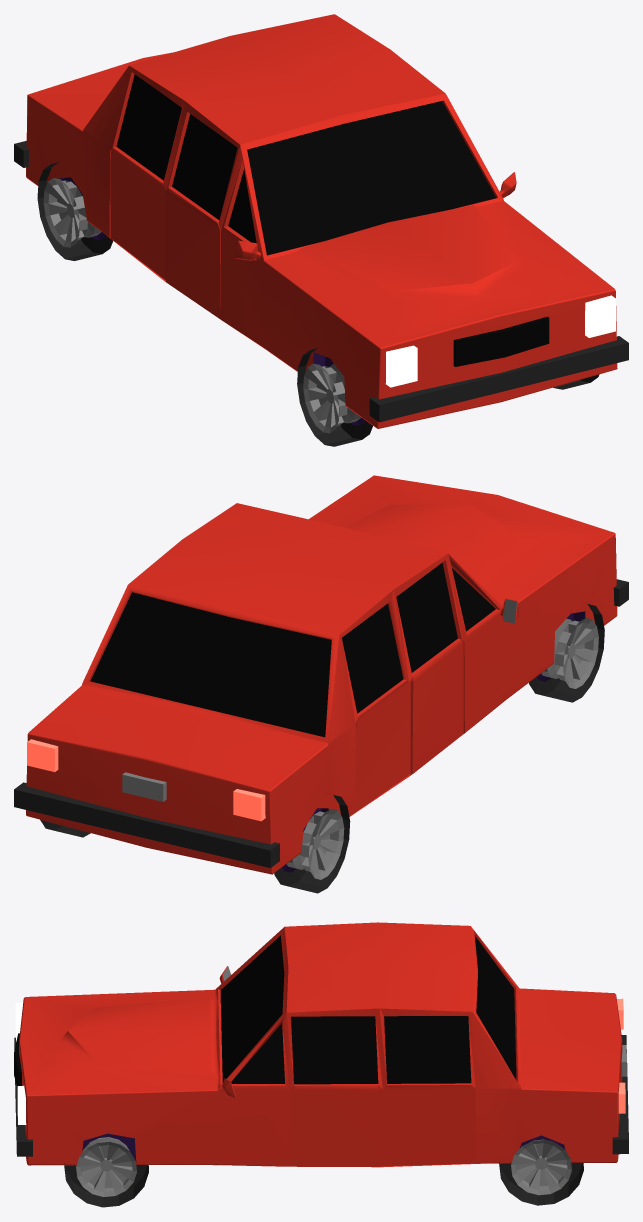
Rendered from redCar.glb.
The picture shows the model from 3 angles, top to bottom: view 1: azimuth 30°, elevation 25°; view 2: azimuth 150°, elevation 25°; view 3: azimuth 270°, elevation 25°; orthographic projection. The views are drawn at different scales.
Visible parts, largest first — view 1: Cube.001_2; view 2: Cube.001_2; view 3: Cube.001_2.
Part boxes in pixels (left/top/right/bottom): Cube.001_2: left=14, top=14, right=628, bottom=446; Cube.001_2: left=14, top=475, right=628, bottom=893; Cube.001_2: left=14, top=922, right=628, bottom=1207.
Size of the model in its own units: 1.51 by 1.14 by 3.36.
